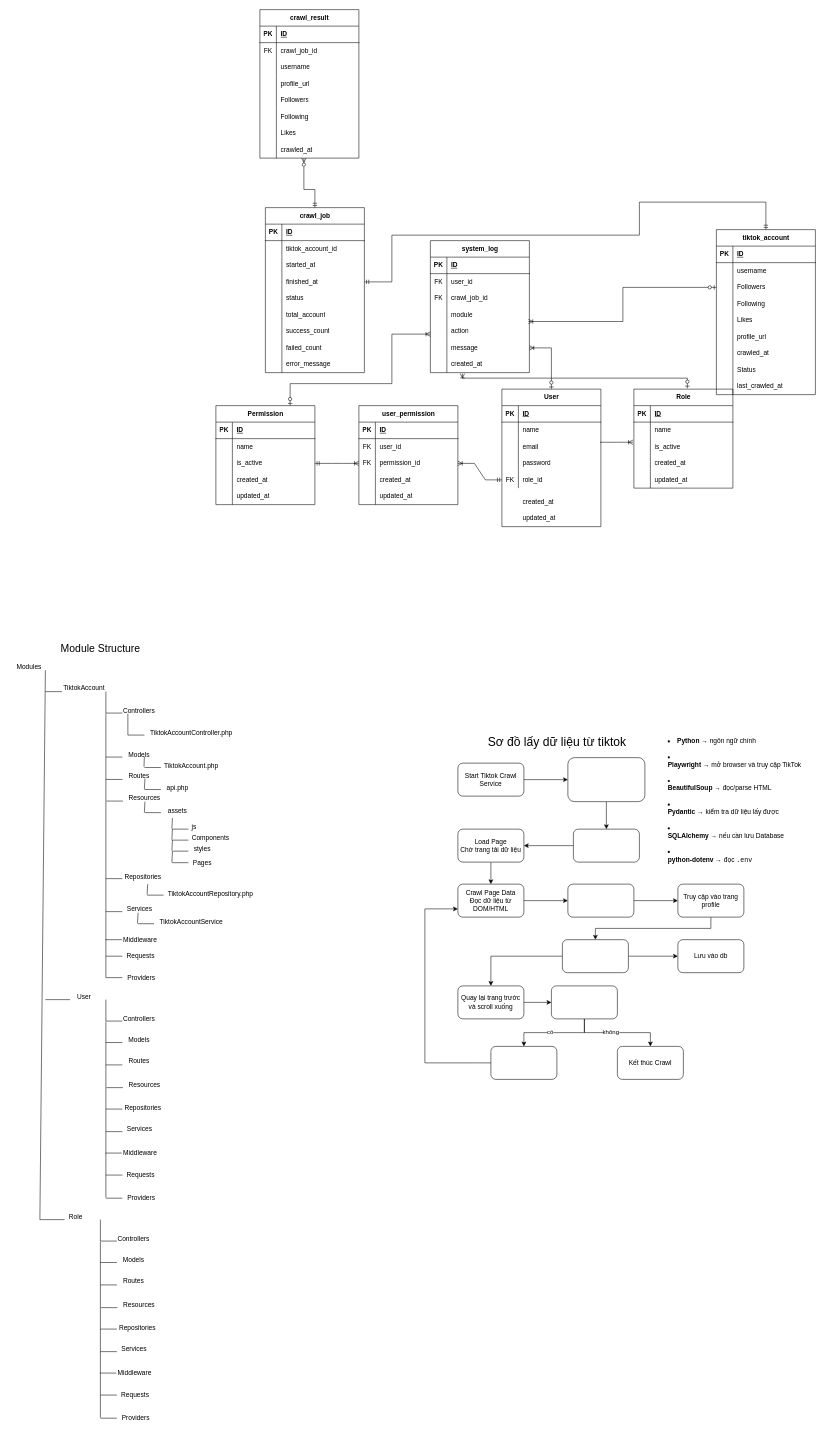
Image size: 825x1436. Some labels were removed from this diagram. The centre of each missing label's shape, as x and y in pixels:
"Crawl tiếp" belongs at (523,1062).
"Có dữ liệu mới xuất hiện?" belongs at (584,1002).
"Initialize Crawler - Khởi tạo browser - Khởi tạo page -Cấu hình Crawler" belongs at (606,779).
"Lấy dữ liệu cần thiết" belongs at (595,956).
"Lấy username" belongs at (600,900).
"Open Tiktok website" belongs at (606,845).
